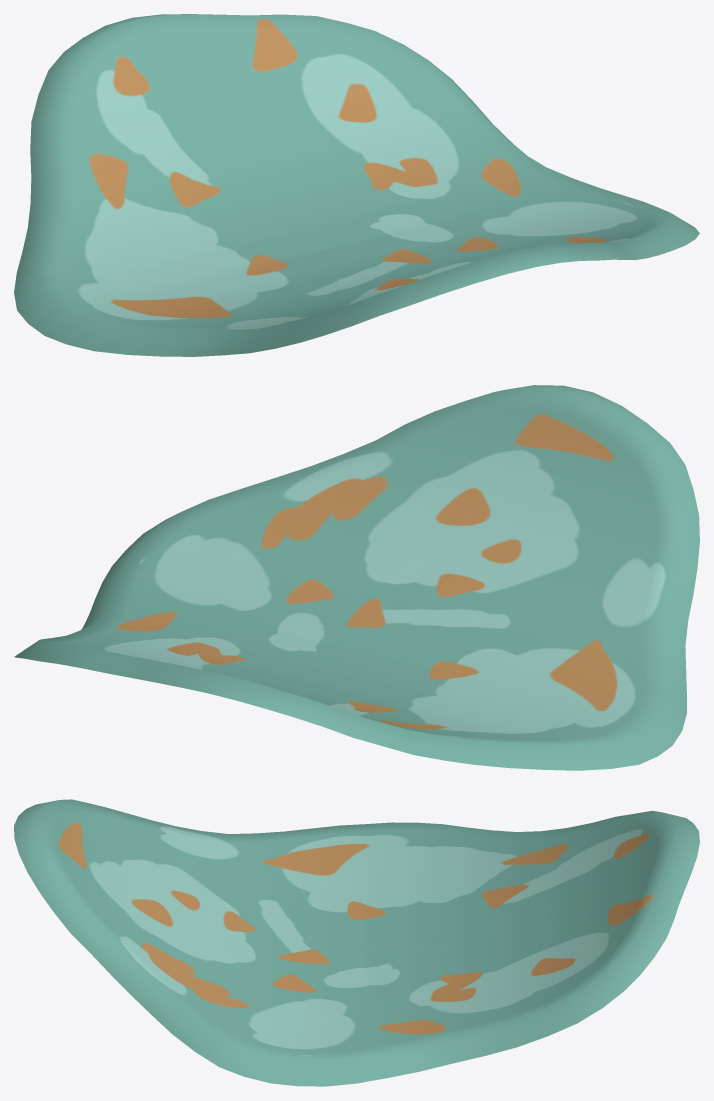
File: Medium Rusty Puddle.fbx
The picture shows the model from 3 angles, top to bottom: view 1: azimuth 30°, elevation 25°; view 2: azimuth 150°, elevation 25°; view 3: azimuth 270°, elevation 25°; orthographic projection. The views are drawn at different scales.
Visible parts, largest first — view 1: Medium; view 2: Medium; view 3: Medium.
Boxes of the visible parts, x1,y1,x2,y2 form: Medium: (14, 14, 699, 356); Medium: (14, 385, 699, 770); Medium: (14, 799, 699, 1086).
Bounding box in the file's own units: 29.98 × 7.08 × 33.21.
1 material, 1 textured.
